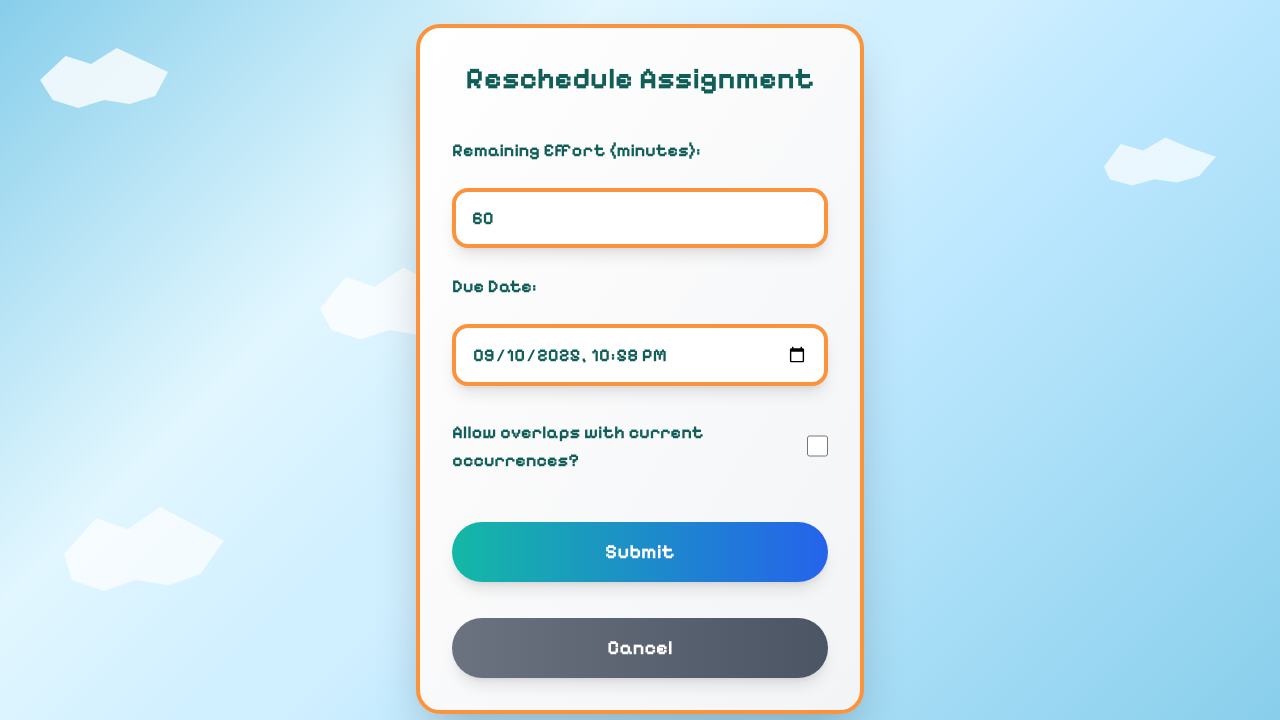
Test: RescheduleScreen Component › shows loading state during submission
The image size is (1280, 720).
Click the button "Submit": (640, 552) [452,522,828,582]
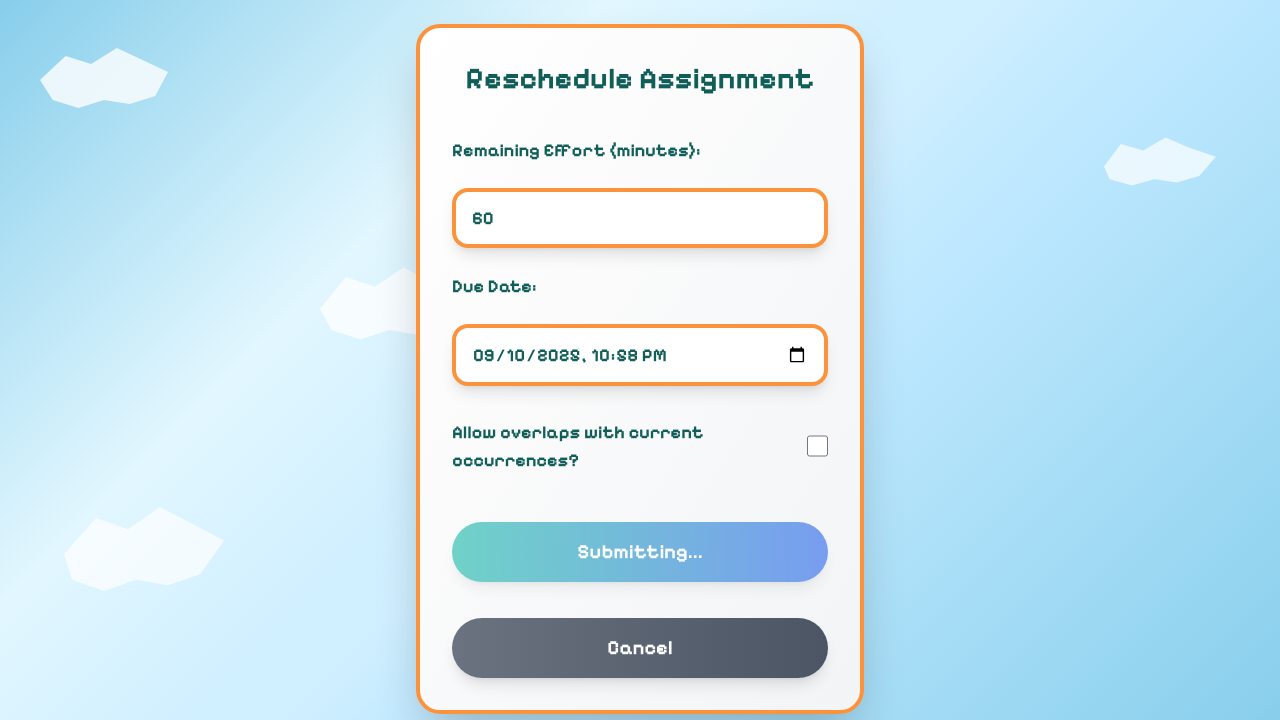
Check: the button "Submitting..." is disabled, box [452,522,828,582]
